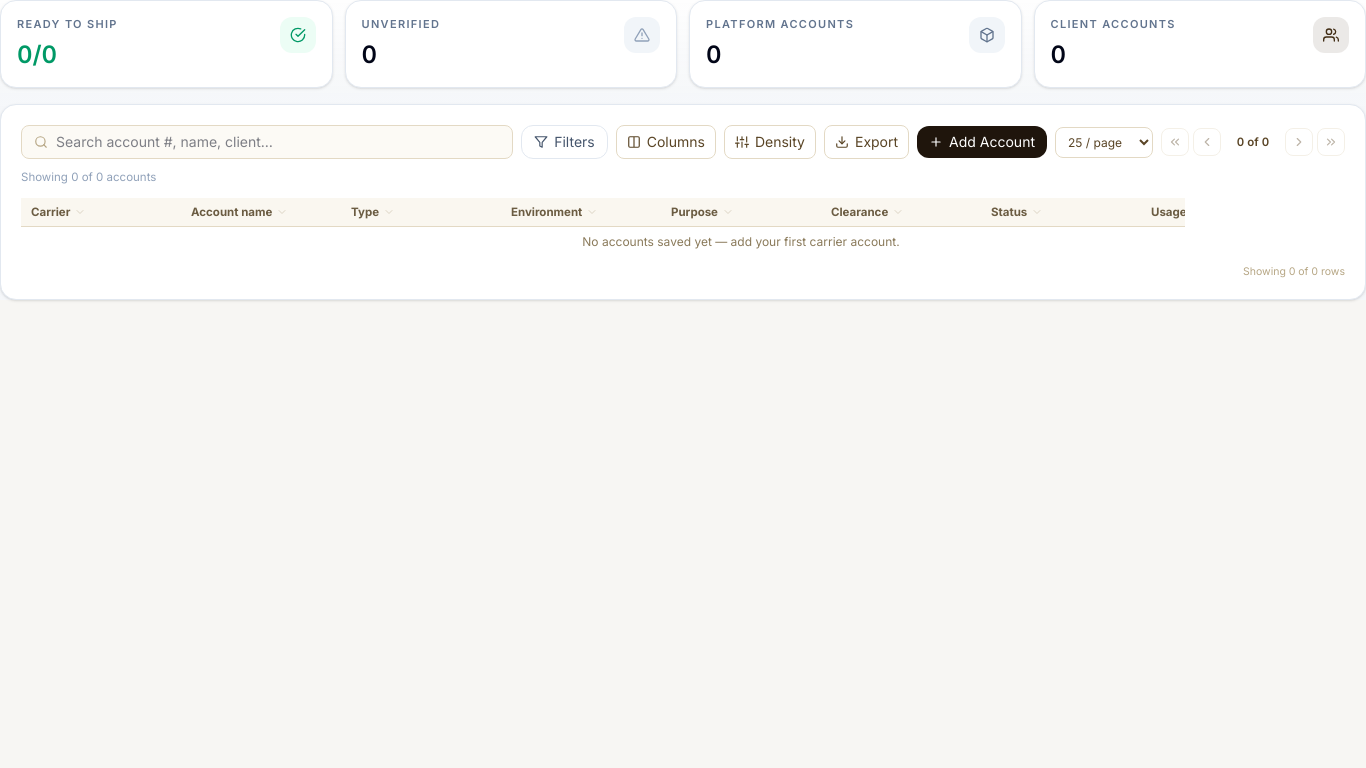
Test: CarrierConnections · add flow · positive › opens the Add drawer when the toolbar "Add Account" button is clicked
Click the button "Add Account". click: (982, 142)
box: [917,126,1047,158]
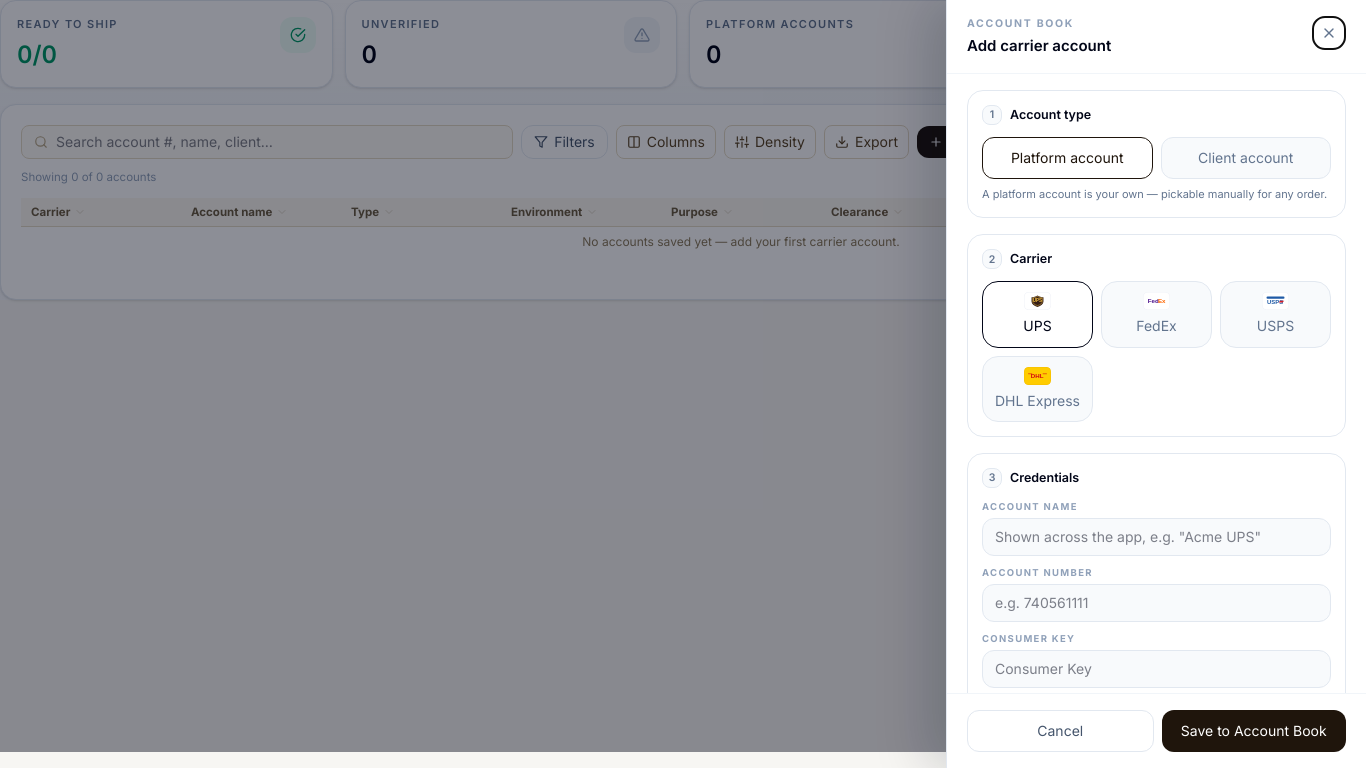
Now the heading "Add carrier account" is shown, box [967,35,1111,57]
Now the button "Cancel" is shown, box [967,710,1154,752]
Now the button "Save to Account Book" is shown, box [1162,710,1346,752]
